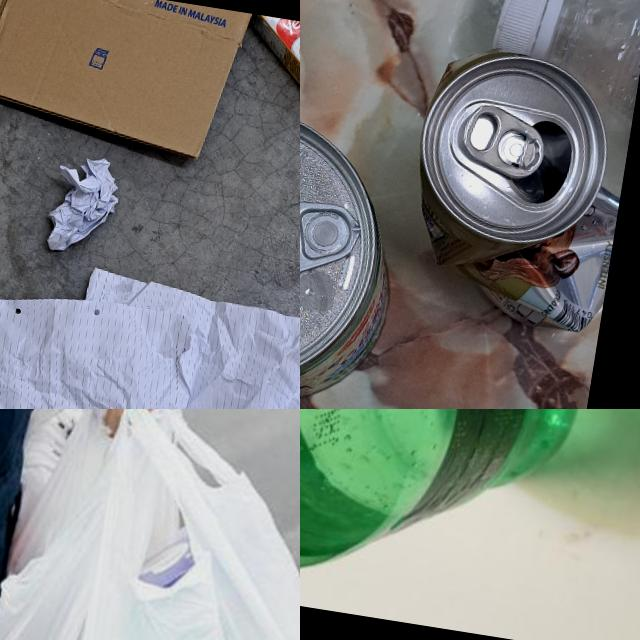aba de lata: (458, 101, 551, 185), (300, 189, 365, 294)
caixinha: (241, 14, 300, 105)
garrafa plástica: (300, 409, 605, 615), (539, 0, 640, 134)
lata: (394, 45, 640, 336), (300, 90, 414, 409)
papel: (0, 242, 300, 409), (41, 150, 123, 262)
papelão: (0, 0, 256, 164)
sacola plástica: (34, 409, 300, 640), (0, 409, 146, 640)
tampa plástica: (492, 0, 559, 62)
